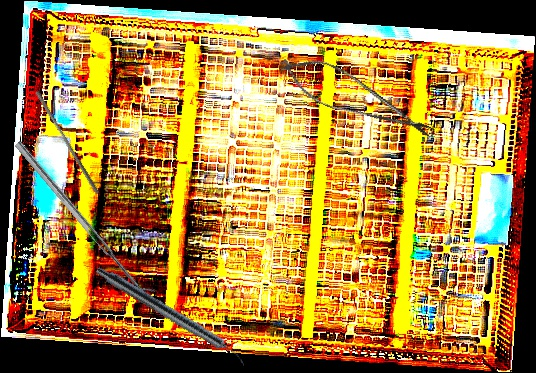Handpiece: (92, 264, 251, 368)
Micro Scissor: (272, 45, 443, 151)
Pusher: (31, 90, 104, 195)
Spatula Surgical: (14, 135, 157, 302)
